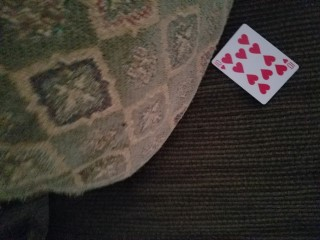TenOfHearts: (210, 24, 300, 105)
